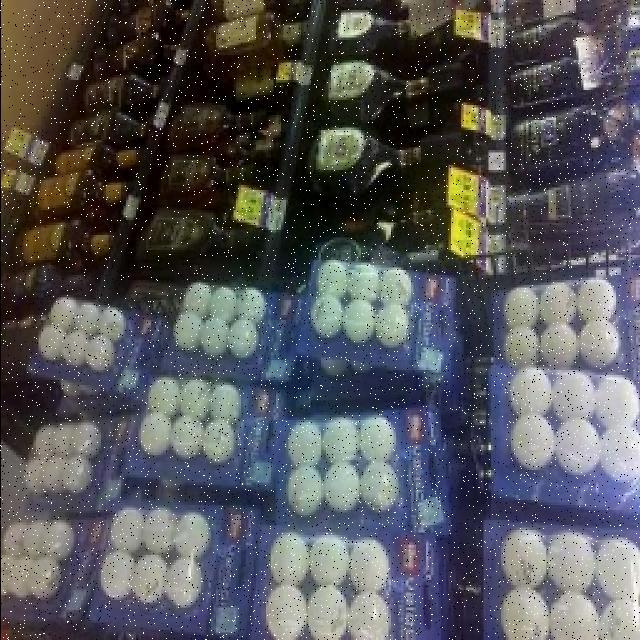ping-pong-ball: (499, 529, 548, 587), (547, 534, 597, 590), (596, 540, 637, 602), (594, 374, 640, 429), (557, 420, 598, 480), (497, 589, 545, 640), (549, 590, 597, 640), (600, 425, 640, 483), (348, 536, 388, 592), (359, 462, 402, 514), (267, 582, 308, 635), (309, 585, 347, 640), (511, 416, 554, 464), (509, 368, 552, 415), (166, 558, 206, 608), (554, 371, 592, 422), (309, 536, 351, 582), (348, 592, 387, 640), (499, 284, 540, 329), (374, 302, 414, 348), (358, 414, 396, 462), (98, 552, 135, 600), (580, 321, 619, 366), (320, 418, 359, 462), (136, 411, 174, 456), (133, 554, 166, 605), (536, 328, 576, 370), (323, 462, 358, 510), (174, 513, 212, 557), (539, 279, 575, 325), (110, 506, 146, 552), (597, 601, 639, 640), (289, 467, 322, 515), (272, 536, 306, 582), (577, 280, 616, 320), (176, 379, 213, 420), (339, 302, 375, 344), (170, 416, 206, 458), (287, 419, 320, 464), (26, 554, 62, 595), (347, 262, 383, 302), (150, 377, 182, 421), (142, 508, 174, 552), (225, 318, 260, 358), (203, 420, 236, 462), (210, 381, 243, 422), (310, 298, 342, 339), (316, 258, 346, 300), (173, 310, 203, 352), (197, 318, 228, 358), (381, 268, 414, 305), (59, 330, 89, 368), (234, 290, 266, 324), (60, 456, 92, 490), (42, 522, 74, 556), (22, 519, 52, 555), (210, 286, 240, 321), (87, 338, 117, 373), (37, 322, 65, 359), (70, 424, 102, 456), (180, 286, 210, 320), (9, 560, 36, 596), (48, 299, 78, 330), (42, 458, 68, 493), (73, 304, 102, 334), (50, 426, 78, 456), (97, 310, 125, 339), (34, 429, 60, 457), (28, 461, 50, 490)
